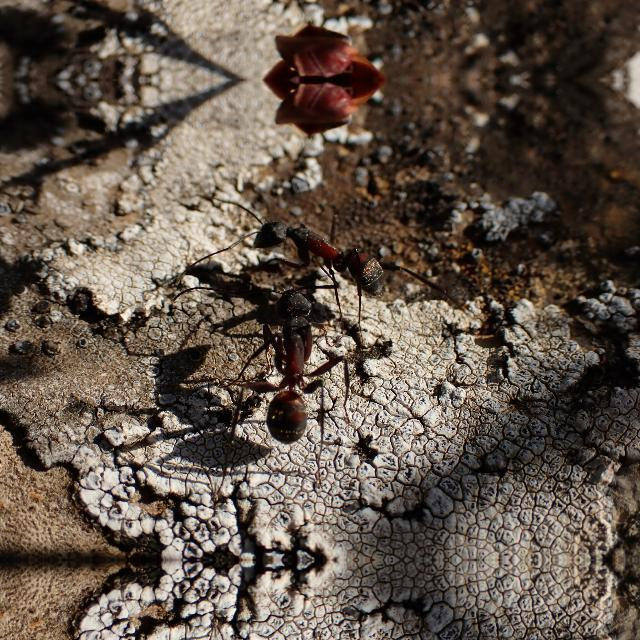Camponotus: (227, 266, 355, 459), (224, 199, 412, 301), (152, 15, 422, 80), (152, 80, 422, 144)
